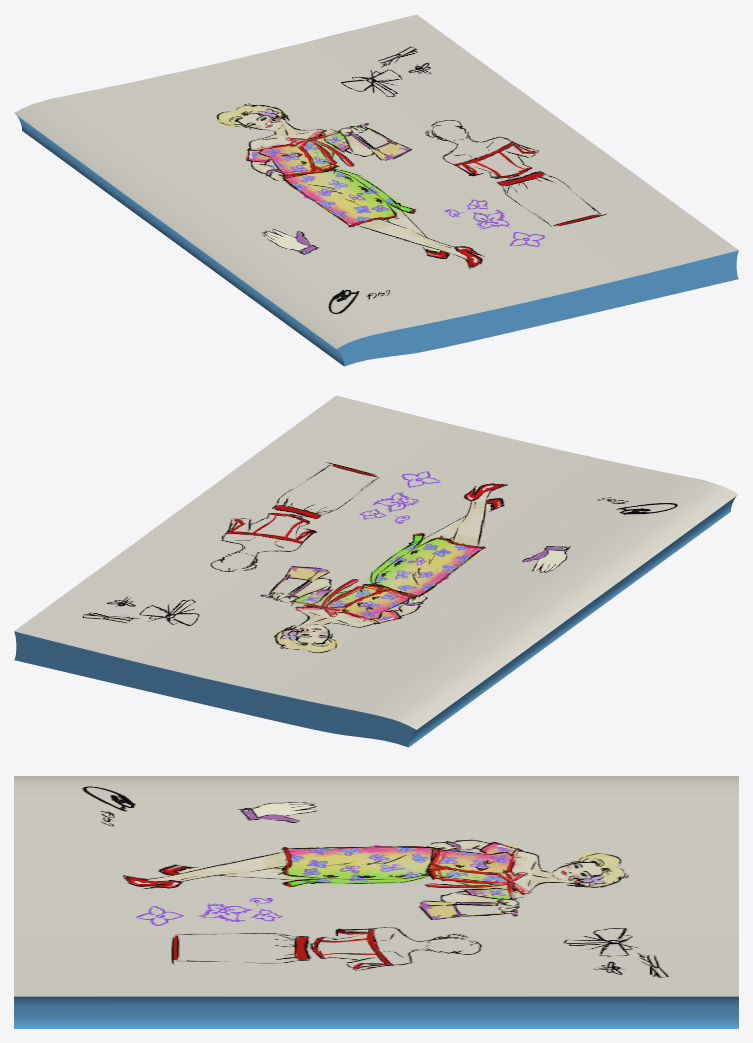
The model's file is paper block.FBX.
3 views of the same model, one above another, from view 1: azimuth 30°, elevation 25°; view 2: azimuth 150°, elevation 25°; view 3: azimuth 270°, elevation 25° (orthographic). The views are drawn at different scales.
Parts seen in each view (by area): view 1: object_48, object_46; view 2: object_48, object_46; view 3: object_48, object_46.
Boxes of the visible parts, bbox=[...] form: object_48: bbox=[14, 14, 738, 348]; object_46: bbox=[15, 31, 738, 366]; object_48: bbox=[14, 395, 738, 729]; object_46: bbox=[14, 479, 736, 747]; object_48: bbox=[14, 776, 738, 996]; object_46: bbox=[14, 996, 738, 1028].
Size of the model in its own units: 214 by 297 by 16.97.
